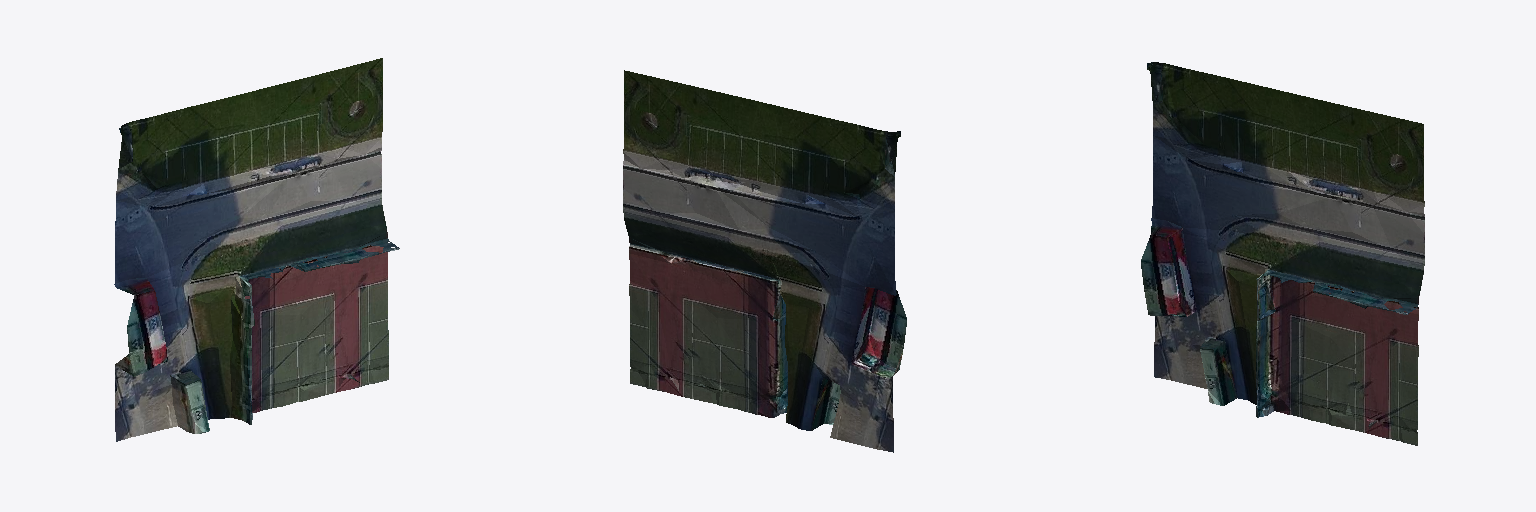
The picture shows the model from 3 angles: view 1: azimuth 30°, elevation 25°; view 2: azimuth 150°, elevation 25°; view 3: azimuth 330°, elevation 25°; orthographic projection.
Visible parts, largest first — view 1: obj_0; view 2: obj_0; view 3: obj_0.
Boxes of the visible parts, box(x1,y1,x2,y2) form: obj_0: box(114, 58, 399, 441); obj_0: box(623, 70, 906, 452); obj_0: box(1141, 62, 1424, 445).
Bounding box in the file's own units: 40.16 × 45.06 × 5.13.
Materials: 1 (1 with a texture image).